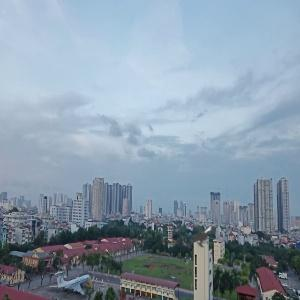drone: (170, 205, 239, 274)
